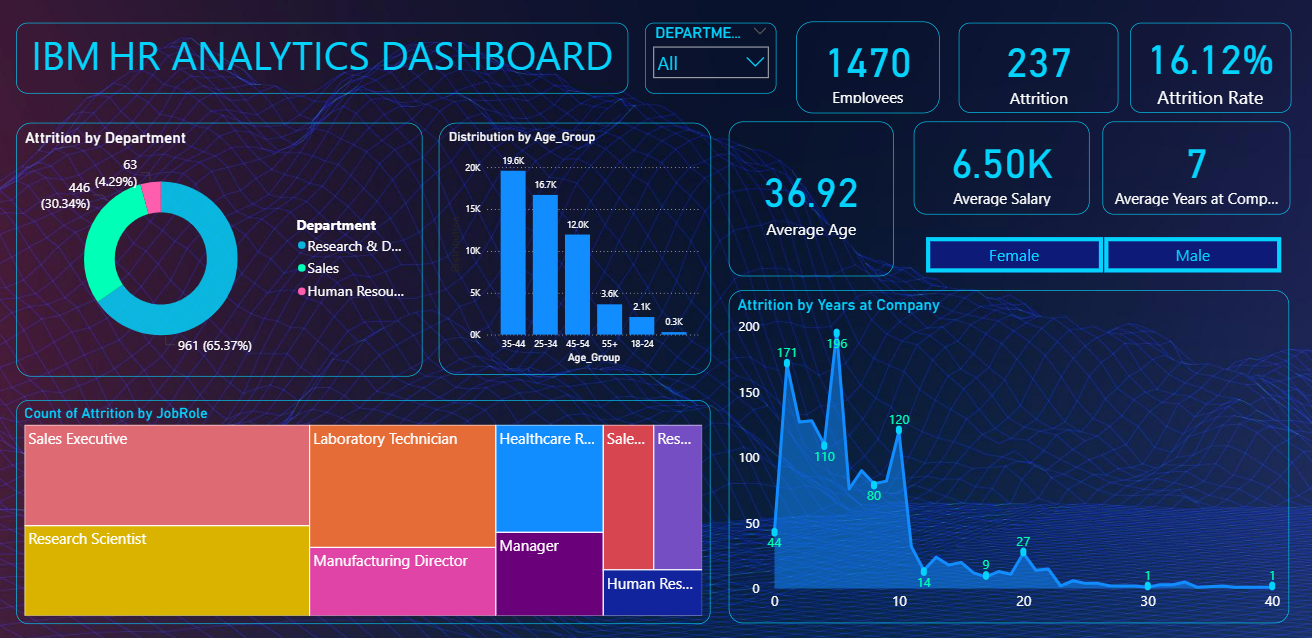

What the dashboard file says about the page in this screenshot:
{"tool":"powerbi","page":{"name":"Overview & Demographics","canvas":[1750,855],"ordinal":0},"visuals":[{"type":"card","fields":{"Values":["CALCULATION.Total Employees"]},"box":[1061.2,29.6,191.3,122.3],"z":0},{"type":"textbox","box":[22,32,816,94],"z":1000},{"type":"donutChart","fields":{"Category":["HR_Cleaned_for_PBI.Department"],"Y":["CountNonNull(HR_Cleaned_for_PBI.Attrition)"]},"box":[21.4,164.3,541.4,338.6],"z":2000},{"type":"clusteredColumnChart","fields":{"Category":["HR_Cleaned_for_PBI.Age_Group"],"Y":["Sum(HR_Cleaned_for_PBI.Age)"]},"box":[584.3,164.3,362.9,335.7],"z":3000},{"type":"slicer","fields":{"Values":["HR_Cleaned_for_PBI.Gender"]},"box":[1208,296,524,74],"z":4000},{"type":"card","fields":{"Values":["Average Year at Company.Average Years at Company"]},"box":[1469.5,163.7,250.5,124.3],"z":5000},{"type":"card","fields":{"Values":["CALCULATION.Attrition Count"]},"box":[1278.2,31.6,213,120.3],"z":6000},{"type":"card","fields":{"Values":["CALCULATION.Attrition Rate"]},"box":[1507,31.6,215,120.3],"z":7000},{"type":"slicer","fields":{"Values":["HR_Cleaned_for_PBI.Department"]},"box":[860,31.6,175.6,94.7],"z":8000},{"type":"card","fields":{"Values":["CALCULATION.Average Age"]},"box":[972,164,220,206],"z":9000},{"type":"card","fields":{"Values":["Avg(HR_Cleaned_for_PBI.MonthlyIncome)"]},"box":[1219,163.7,234.7,124.3],"z":10000},{"type":"lineChart","title":"Attrition by Years at Company","fields":{"Category":["HR_Cleaned_for_PBI.YearsAtCompany"],"Y":["CountNonNull(HR_Cleaned_for_PBI.Attrition)"]},"box":[972.5,388.6,747.6,443.8],"z":11000},{"type":"treemap","fields":{"Details":["HR_Cleaned_for_PBI.JobRole"],"Values":["CountNonNull(HR_Cleaned_for_PBI.Attrition)"]},"box":[21.4,534.3,925.7,298.6],"z":12000}]}

Visuals, with their boxes in screenshot pixels (x1, y1, x2, y2), scaled from the page's 1750x855 canvas onto the 1312x638 screenshot:
card - CALCULATION.Total Employees: [796, 22, 939, 113]
textbox: [16, 24, 628, 94]
donutChart - HR_Cleaned_for_PBI.Department x CountNonNull(HR_Cleaned_for_PBI.Attrition): [16, 123, 422, 375]
clusteredColumnChart - HR_Cleaned_for_PBI.Age_Group x Sum(HR_Cleaned_for_PBI.Age): [438, 123, 710, 373]
slicer - HR_Cleaned_for_PBI.Gender: [906, 221, 1299, 276]
card - Average Year at Company.Average Years at Company: [1102, 122, 1290, 215]
card - CALCULATION.Attrition Count: [958, 24, 1118, 113]
card - CALCULATION.Attrition Rate: [1130, 24, 1291, 113]
slicer - HR_Cleaned_for_PBI.Department: [645, 24, 776, 94]
card - CALCULATION.Average Age: [729, 122, 894, 276]
card - Avg(HR_Cleaned_for_PBI.MonthlyIncome): [914, 122, 1090, 215]
"Attrition by Years at Company" lineChart: [729, 290, 1290, 621]
treemap - HR_Cleaned_for_PBI.JobRole x CountNonNull(HR_Cleaned_for_PBI.Attrition): [16, 399, 710, 622]
